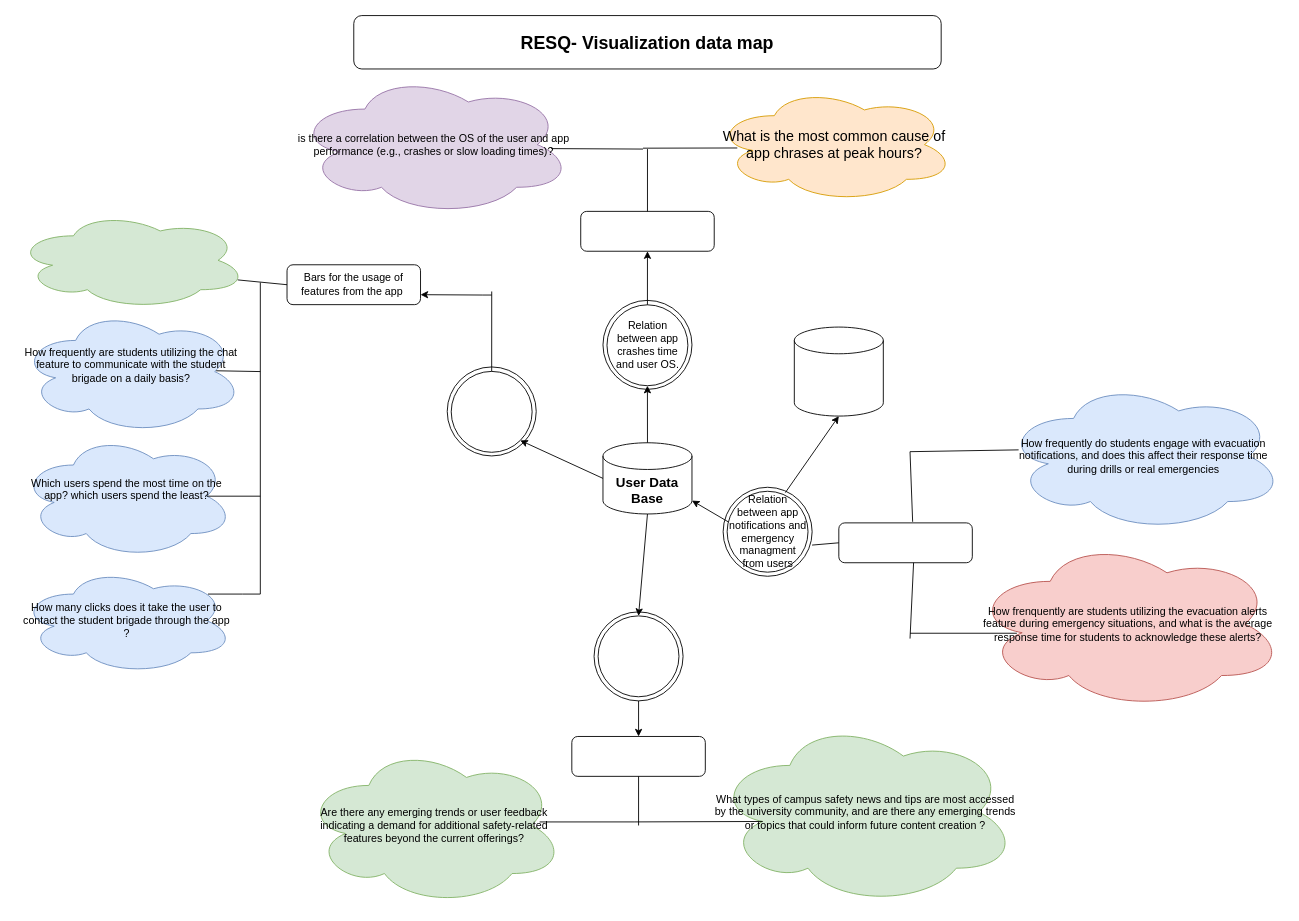
The diagram is 1299 pixels wide and 921 high, and some of its shapes have lost their labels. Here are the shapes that lost their labels. From the top down, the centre of each, then its label:
At [647,230]: "bars with causes of errors from the app".
At [131,259]: "Which core funcionalities are not beig used in the app in the last six months".
At [838,371]: "Emergency Data Base".
At [491,411]: "Calculation and analisis of user behavior".
At [905,542]: "Simple display of Frequencies".
At [638,656]: "Relation between user perception and future features.".
At [638,756]: "Simple display of trends and feedback from user".
